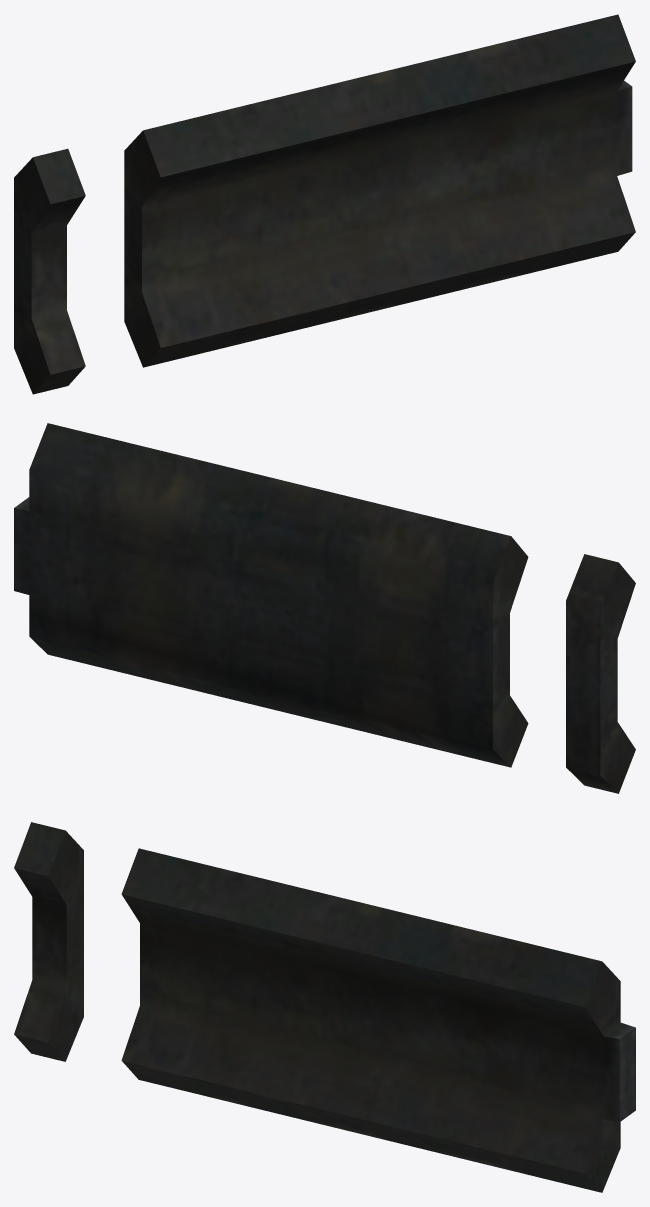
3 renders of one model, top to bottom at view 1: azimuth 30°, elevation 25°; view 2: azimuth 150°, elevation 25°; view 3: azimuth 330°, elevation 25°, orthographic. The views are drawn at different scales.
Parts seen in each view (by area): view 1: set_0_group_0; view 2: set_0_group_0; view 3: set_0_group_0.
Part boxes in pixels (box(x1,y1,x2,y2)): set_0_group_0: box(14, 14, 635, 394); set_0_group_0: box(14, 423, 635, 793); set_0_group_0: box(14, 822, 635, 1192).
Bounding box in the file's own units: 0.5535 × 0.2087 × 0.0582.
Materials: 1 (1 with a texture image).
